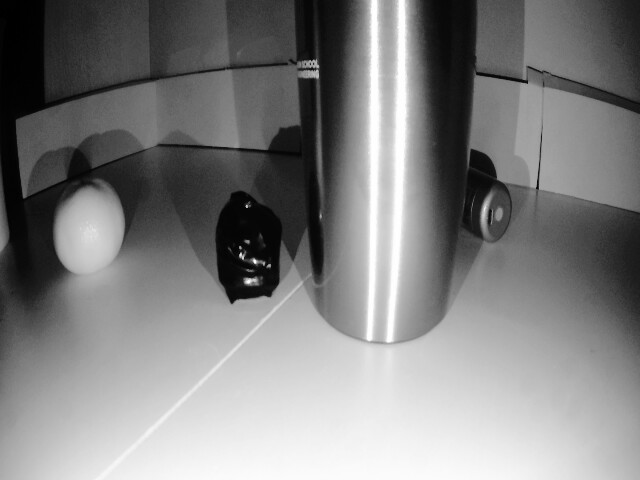black: (212, 192, 286, 295)
